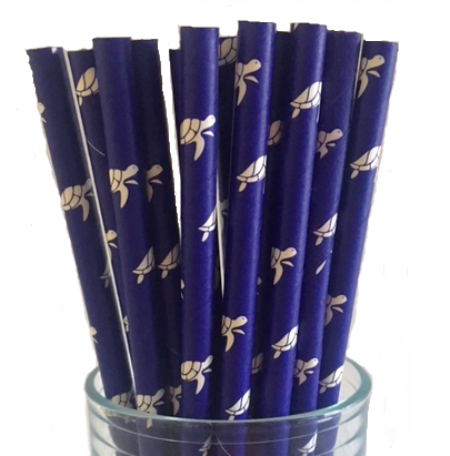Drinking Straw: (176, 22, 222, 418)
